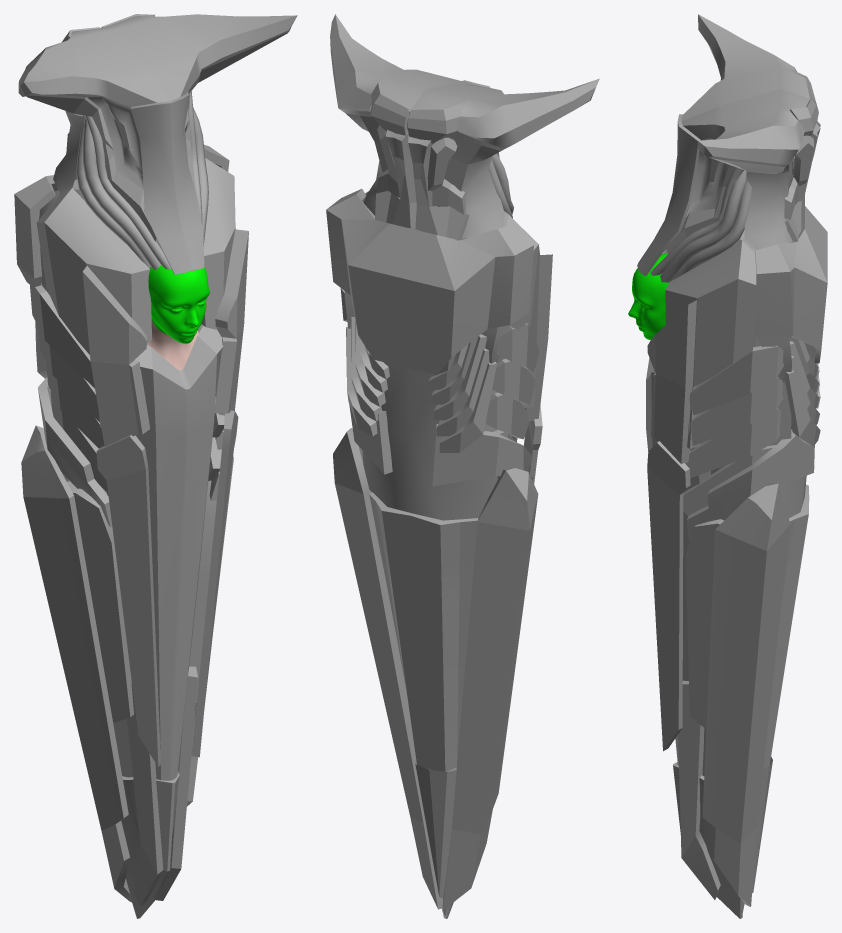
File: boss.fbx
3 renders of one model, left to right at view 1: azimuth 30°, elevation 25°; view 2: azimuth 150°, elevation 25°; view 3: azimuth 270°, elevation 25°, orthographic. The views are drawn at different scales.
Visible parts, largest first — view 1: group3_polySurface100, group3_polySurface121, polySurface90; view 2: group3_polySurface100, group3_polySurface121; view 3: group3_polySurface100, group3_polySurface121, polySurface90.
Boxes of the visible parts, x1,y1,x2,y2 form: group3_polySurface100: (18,14,297,906); group3_polySurface121: (14,14,287,918); polySurface90: (147,265,209,370); group3_polySurface100: (330,14,599,917); group3_polySurface121: (326,80,535,918); group3_polySurface100: (646,14,820,912); group3_polySurface121: (637,44,827,918); polySurface90: (628,253,668,339).
Size of the model in its own units: 31.14 by 96.33 by 20.69.
